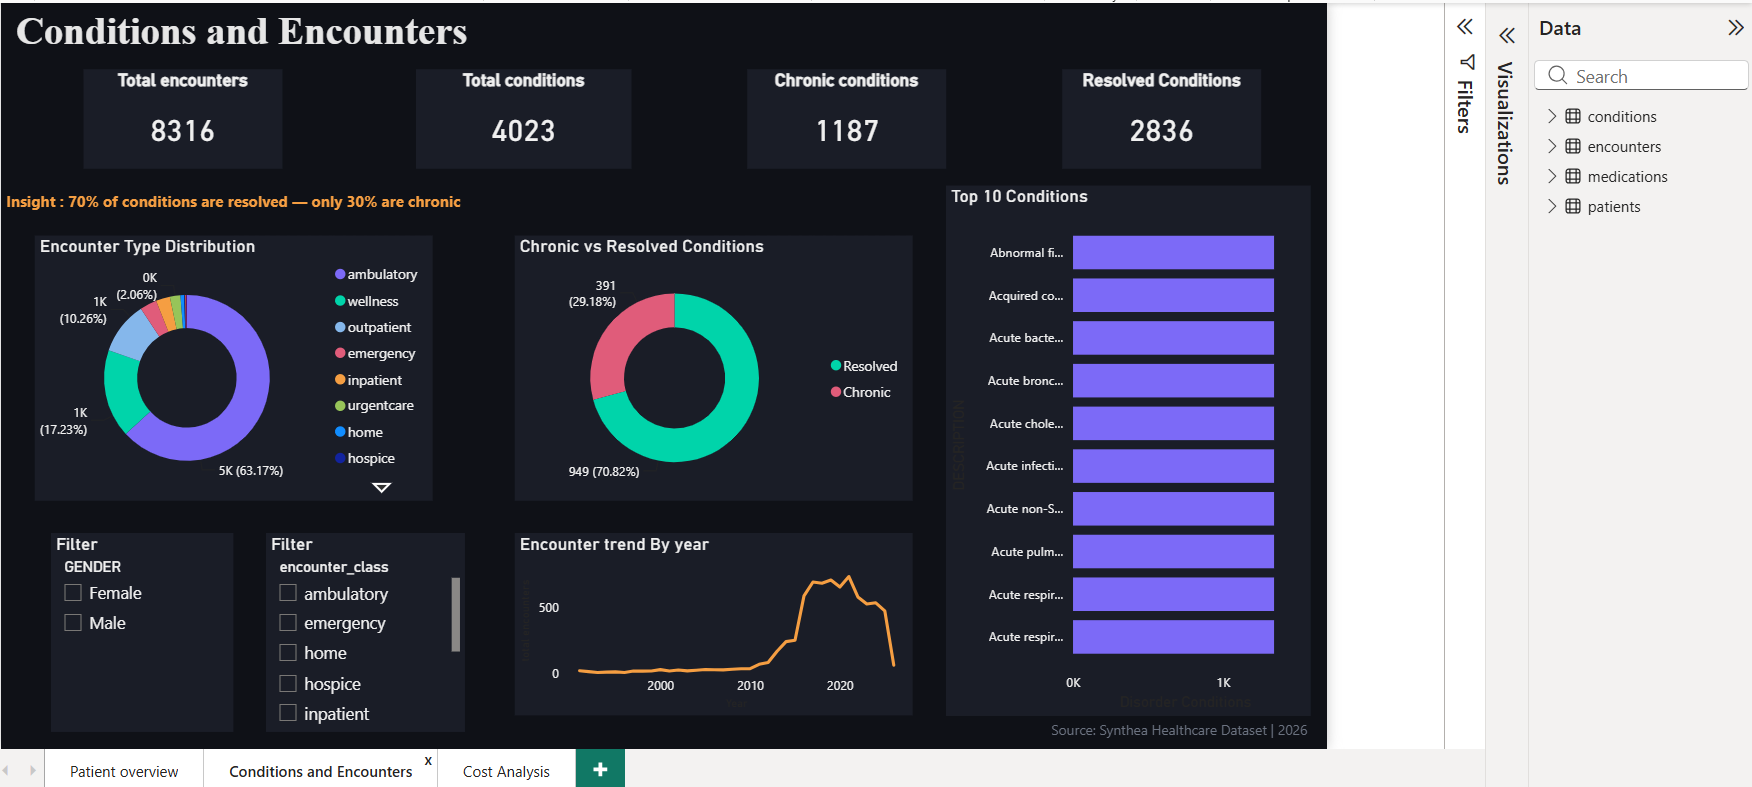

Layout of this report page (visuals, bound fields, positions):
{"tool":"powerbi","page":{"name":"Conditions and Encounters","canvas":[1280,720],"ordinal":1},"visuals":[{"type":"card","title":"Total encounters","fields":{"Values":["encounters.total encounters"]},"box":[80,64,192,96],"z":0},{"type":"card","title":"Total conditions","fields":{"Values":["encounters.total conditions"]},"box":[400,64,208,96],"z":1000},{"type":"card","title":"Chronic conditions","fields":{"Values":["conditions.Chronic Conditions"]},"box":[720,64,192,96],"z":2000},{"type":"card","title":"Resolved Conditions","fields":{"Values":["conditions.Resolved Conditions"]},"box":[1024,64,192,96],"z":3000},{"type":"lineChart","title":"Encounter trend By year","fields":{"Y":["encounters.total encounters"],"Category":["encounters.visit_start.Variation.Date Hierarchy.Year"]},"box":[496,512,384,176],"z":4000},{"type":"donutChart","title":"Encounter Type Distribution","fields":{"Y":["encounters.total encounters"],"Category":["encounters.encounter_class"]},"box":[32,224,384,256],"z":5000},{"type":"textbox","box":[0,0,480,64],"z":6000},{"type":"donutChart","title":"Chronic vs Resolved Conditions","fields":{"Category":["conditions.condition_status"],"Y":["conditions.Disorder Conditions"]},"box":[496,224,384,256],"z":7000},{"type":"barChart","title":"Top 10 Conditions","fields":{"Category":["conditions.DESCRIPTION"],"Y":["conditions.Disorder Conditions"]},"box":[912,176,352,512],"z":8000},{"type":"slicer","title":"Filter","fields":{"Values":["encounters.encounter_class"]},"box":[256,512,192,192],"z":9000},{"type":"slicer","title":"Filter","fields":{"Values":["patients.GENDER"]},"box":[48,512,176,192],"z":10000},{"type":"textbox","box":[0,176,1168,48],"z":11000},{"type":"textbox","box":[1008,688,272,32],"z":11001}]}

Visuals, with their boxes on the page's 1280x720 design canvas (x1, y1, x2, y2). These are canvas units, not pixel positions in the 1752x787 screenshot, which may show the page scaled, cropped or inside an application window:
"Total encounters" card: x1=80, y1=64, x2=272, y2=160
"Total conditions" card: x1=400, y1=64, x2=608, y2=160
"Chronic conditions" card: x1=720, y1=64, x2=912, y2=160
"Resolved Conditions" card: x1=1024, y1=64, x2=1216, y2=160
"Encounter trend By year" lineChart: x1=496, y1=512, x2=880, y2=688
"Encounter Type Distribution" donutChart: x1=32, y1=224, x2=416, y2=480
textbox: x1=0, y1=0, x2=480, y2=64
"Chronic vs Resolved Conditions" donutChart: x1=496, y1=224, x2=880, y2=480
"Top 10 Conditions" barChart: x1=912, y1=176, x2=1264, y2=688
"Filter" slicer: x1=256, y1=512, x2=448, y2=704
"Filter" slicer: x1=48, y1=512, x2=224, y2=704
textbox: x1=0, y1=176, x2=1168, y2=224
textbox: x1=1008, y1=688, x2=1280, y2=720
